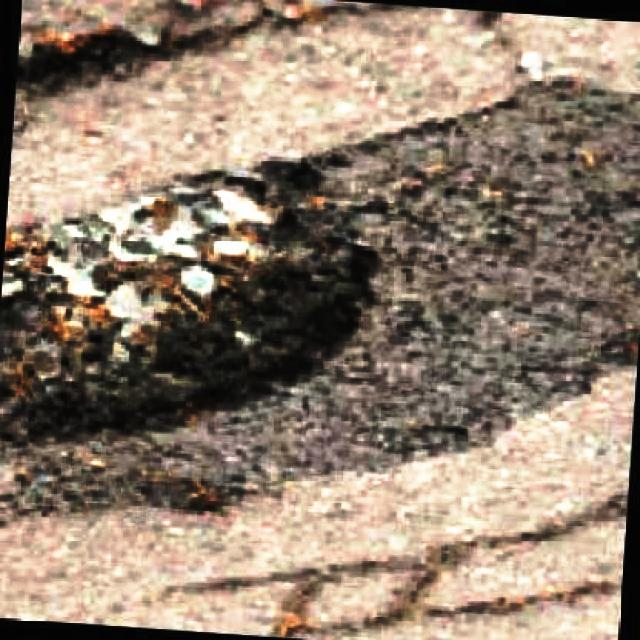pothole: (0, 150, 377, 456)
